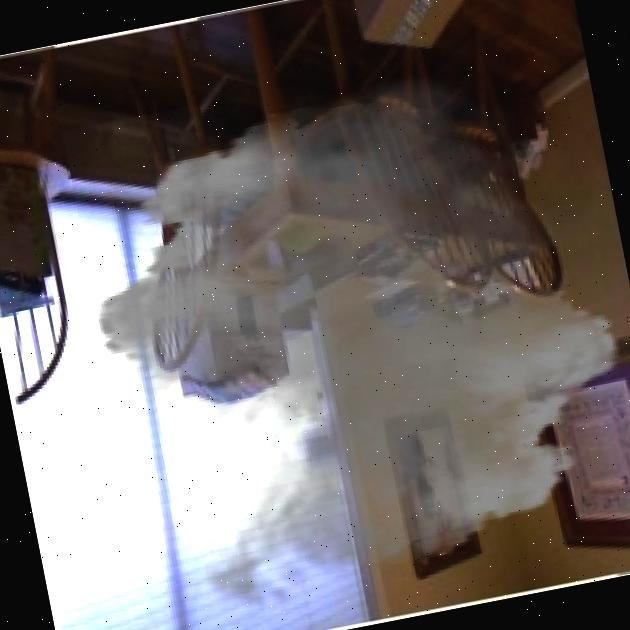smoke: (43, 32, 630, 630)
